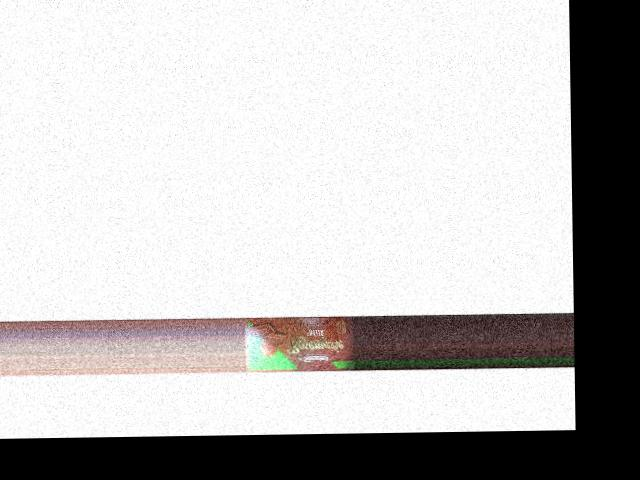chocolate: (246, 316, 357, 370)
